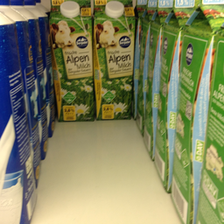milk: (46, 1, 95, 123), (94, 1, 137, 120)
